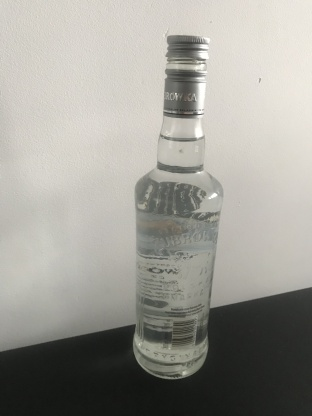nakretka: (161, 32, 211, 118)
